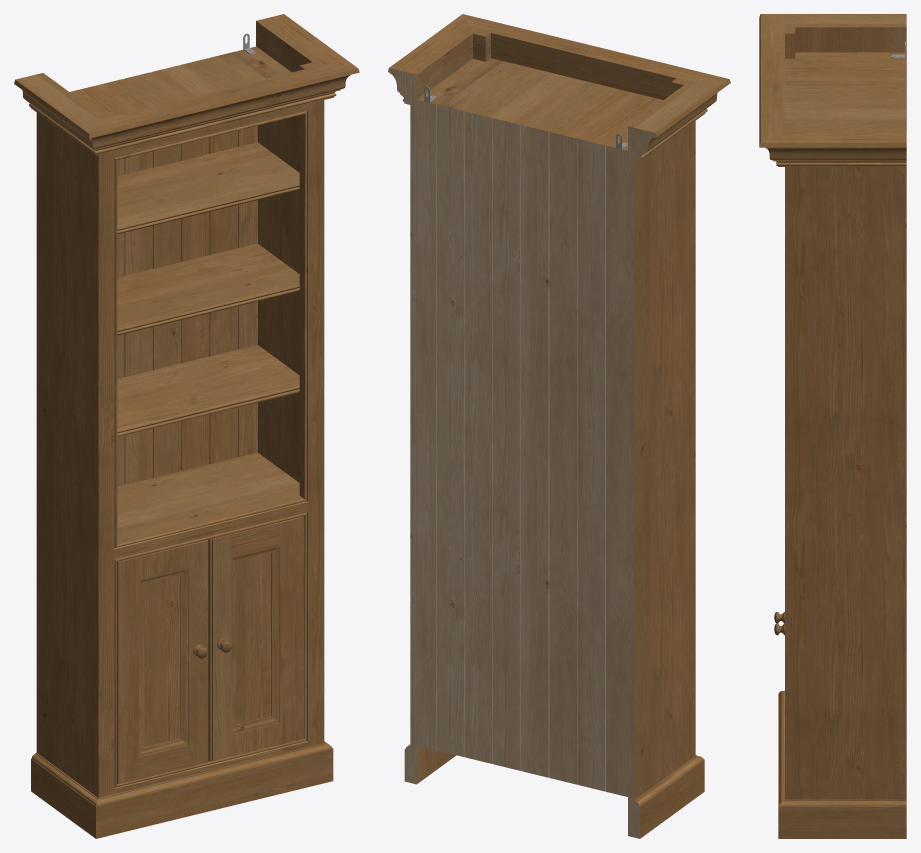
The picture shows the model from 3 angles, left to right: view 1: azimuth 30°, elevation 25°; view 2: azimuth 150°, elevation 25°; view 3: azimuth 270°, elevation 25°; orthographic projection.
Visible parts, largest first — view 1: Object_4; view 2: Object_3, Object_4; view 3: Object_4.
Boxes of the visible parts, box(x1,y1,x2,y2) form: Object_4: box(14, 14, 359, 838); Object_3: box(388, 68, 656, 838); Object_4: box(389, 14, 730, 838); Object_4: box(759, 14, 906, 838).
Bounding box in the file's own units: 84 × 212 × 40.2.
3 materials, 2 textured.
